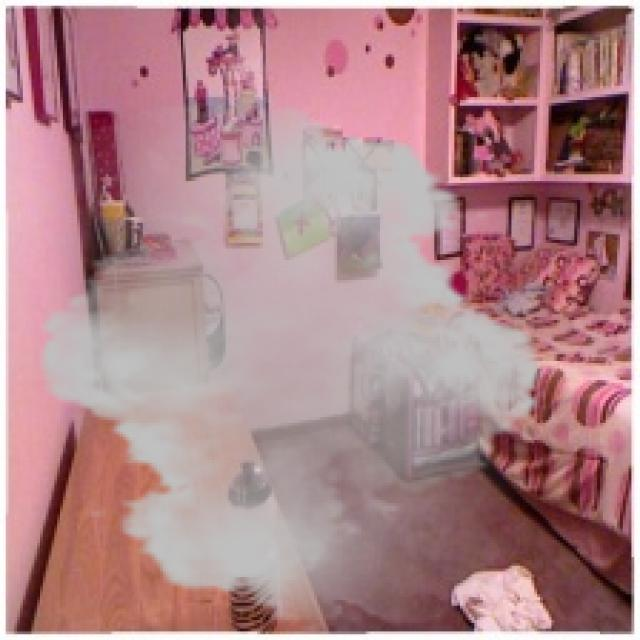smoke: (17, 95, 563, 634)
